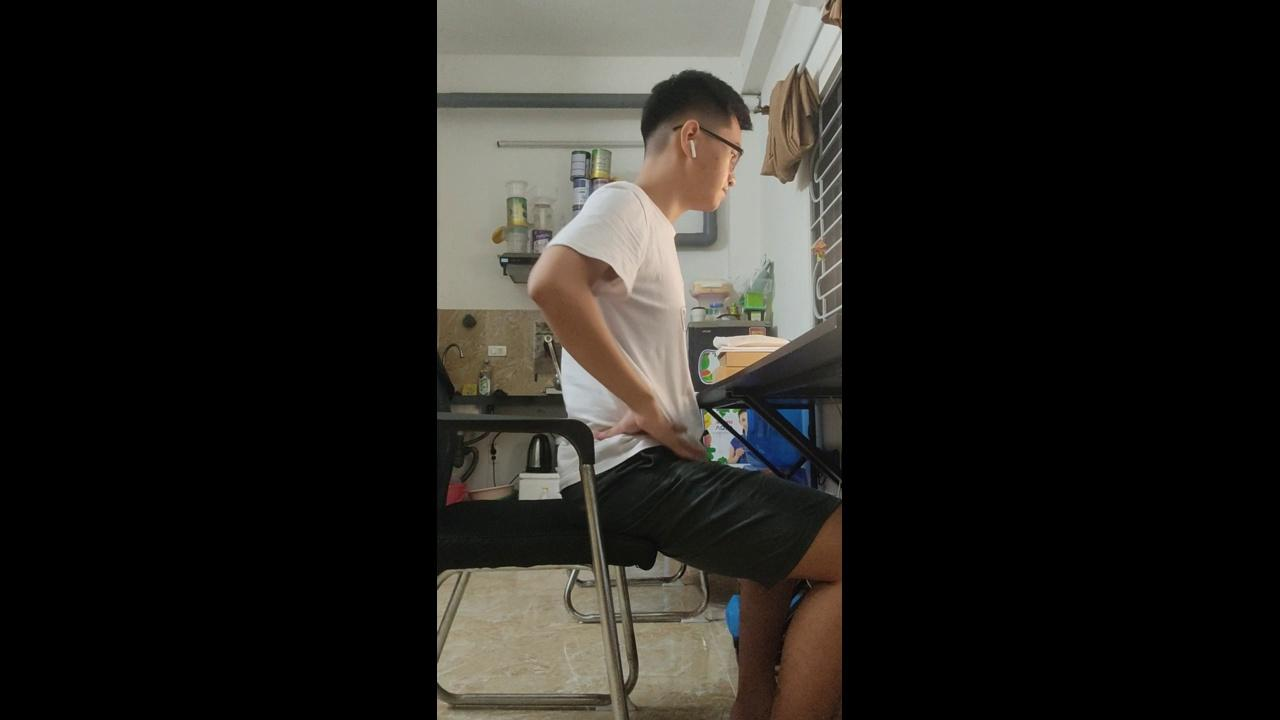GoodPosture: (528, 70, 848, 719)
